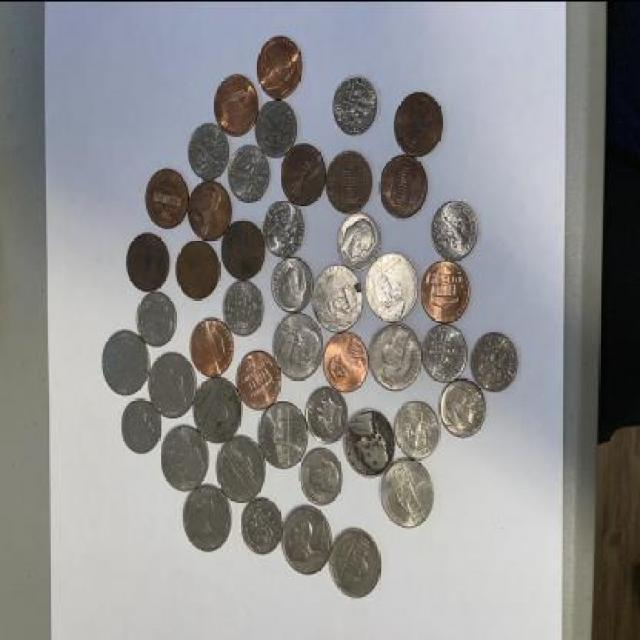Dime: (431, 198, 482, 260), (469, 332, 520, 394), (134, 284, 180, 350), (440, 375, 486, 440), (298, 444, 344, 508), (220, 278, 266, 340), (337, 210, 383, 272), (394, 396, 440, 458), (422, 324, 469, 384), (226, 144, 272, 204), (263, 196, 309, 256), (271, 254, 317, 314), (331, 74, 377, 134), (242, 497, 286, 557), (303, 386, 348, 442), (186, 123, 229, 180), (254, 100, 297, 157), (120, 397, 160, 452)
Nickel: (364, 250, 422, 322), (330, 523, 384, 600), (180, 483, 236, 557), (381, 456, 437, 530), (366, 322, 422, 392), (212, 434, 268, 503), (342, 408, 396, 478), (278, 503, 331, 574), (256, 400, 310, 469), (190, 374, 243, 444), (312, 263, 365, 331), (146, 351, 197, 418), (272, 311, 322, 378), (101, 328, 150, 396), (160, 423, 208, 492)
Penny: (392, 91, 448, 157), (418, 257, 469, 325), (278, 142, 328, 208), (220, 216, 268, 284), (324, 147, 372, 215), (320, 330, 369, 396), (255, 31, 303, 98), (377, 154, 426, 218), (212, 70, 258, 138), (124, 230, 170, 292), (176, 236, 222, 298), (186, 178, 234, 237), (144, 166, 188, 228), (234, 349, 280, 406), (190, 316, 232, 376)
